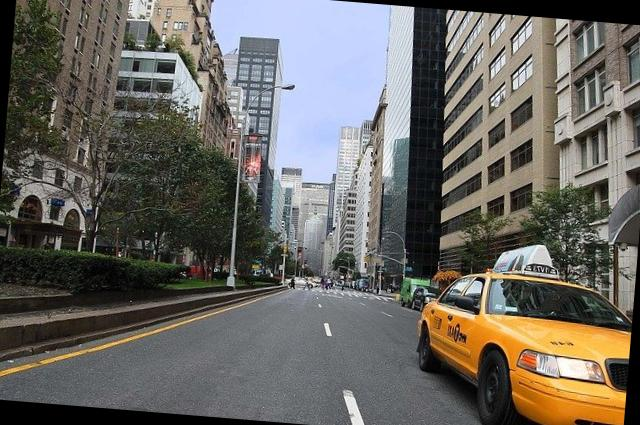taxi: (405, 271, 640, 425)
